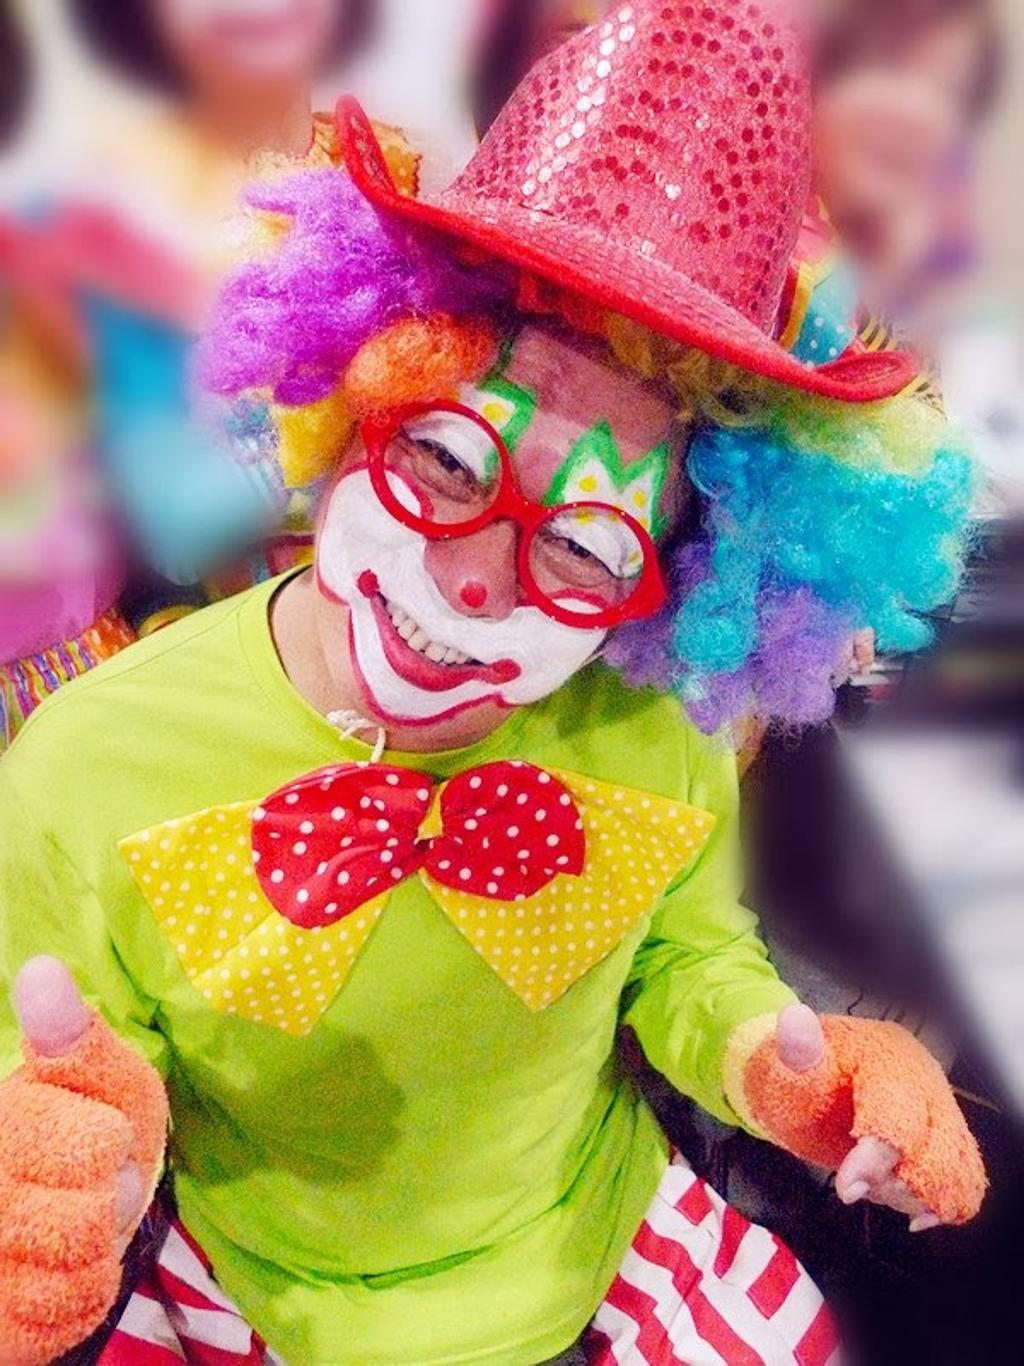face: (317, 309, 680, 722)
